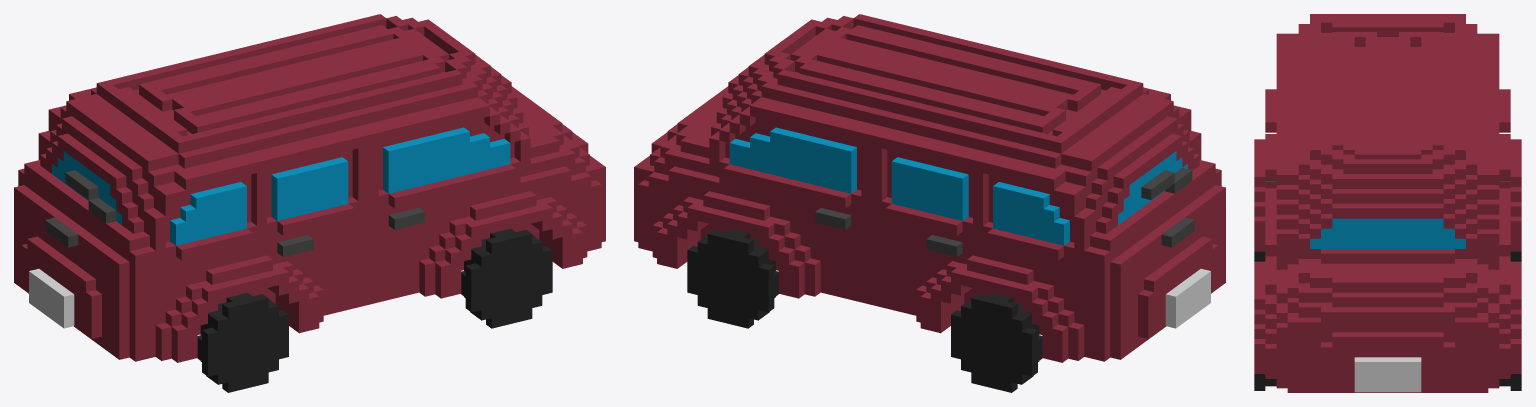
File: largeCarL.obj
3 renders of one model, left to right at view 1: azimuth 30°, elevation 25°; view 2: azimuth 150°, elevation 25°; view 3: azimuth 270°, elevation 25°, orthographic. The views are drawn at different scales.
Bounding box in the file's own units: 5.2 × 2.2 × 2.4.
Materials: 1 (1 with a texture image).
